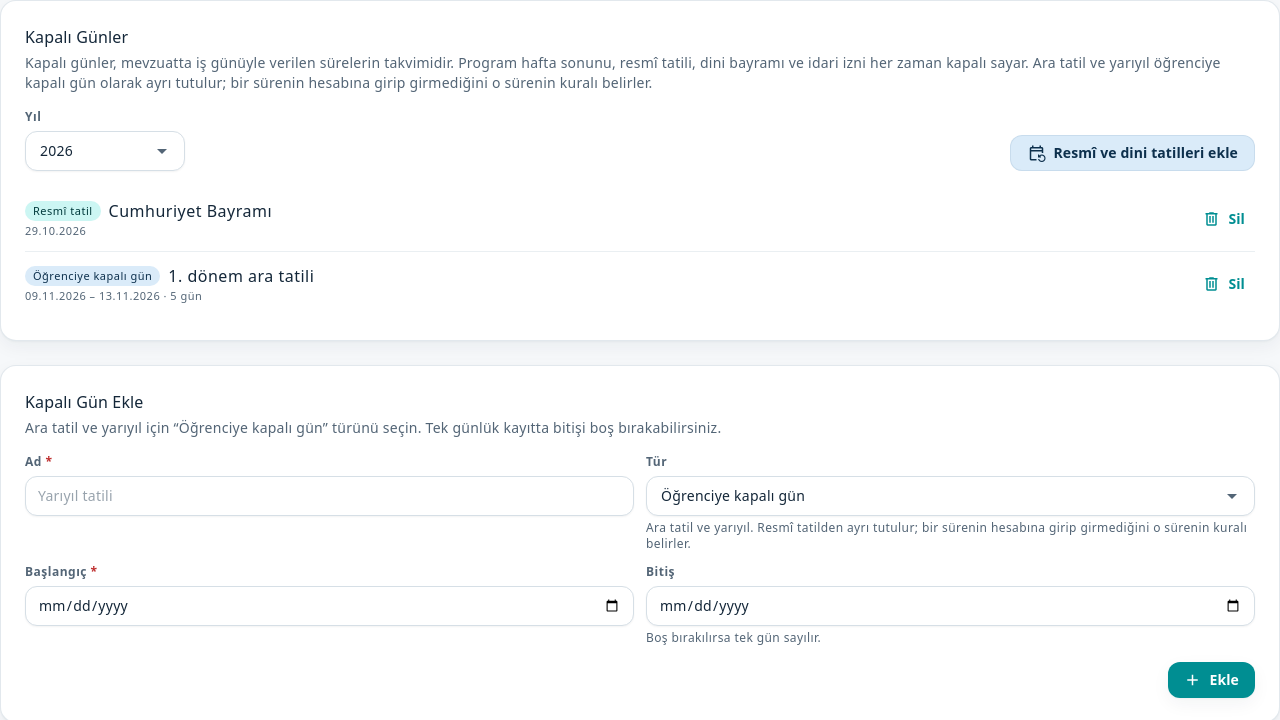
Test: KapaliGunlerPaneli — silme › silme onay diyaloğundan geçer; başlık soru, gövde sonuçtur
Expected: the text "1. dönem ara tatili" is shown, [168,265,314,287]
What coordinates should you click on to do the following:
click the button with aria-label "1. dönem ara tatili kaydını sil"
I would click on:
 (1224, 284)
Its box is [1192,266,1255,302].
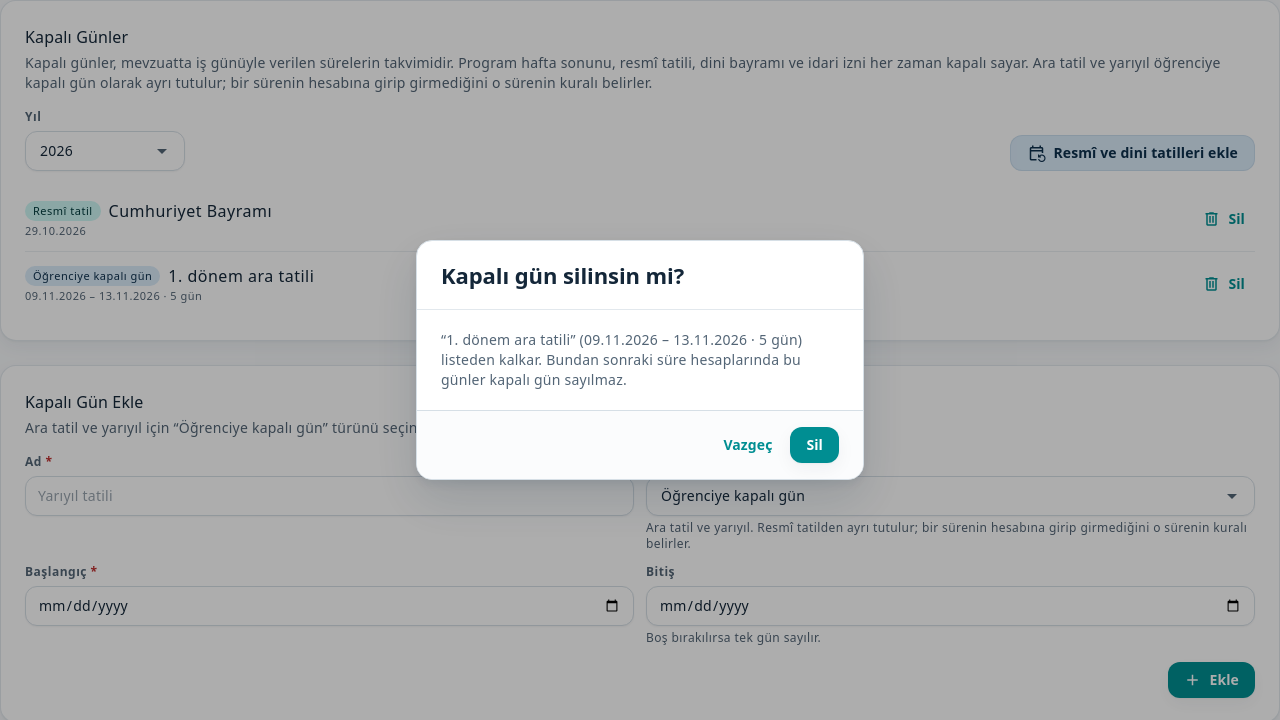
Expected: the dialog "Kapalı gün silinsin mi?" shows "09.11.2026 – 13.11.2026", [441,330,802,389]
Expected: the dialog "Kapalı gün silinsin mi?" shows "süre hesaplarında bu günler kapalı gün sayılmaz", [441,330,802,389]
What coordinates should you click on to do the following:
click the button "Sil"
I would click on:
 (815, 445)
Its box is [790,427,839,463].
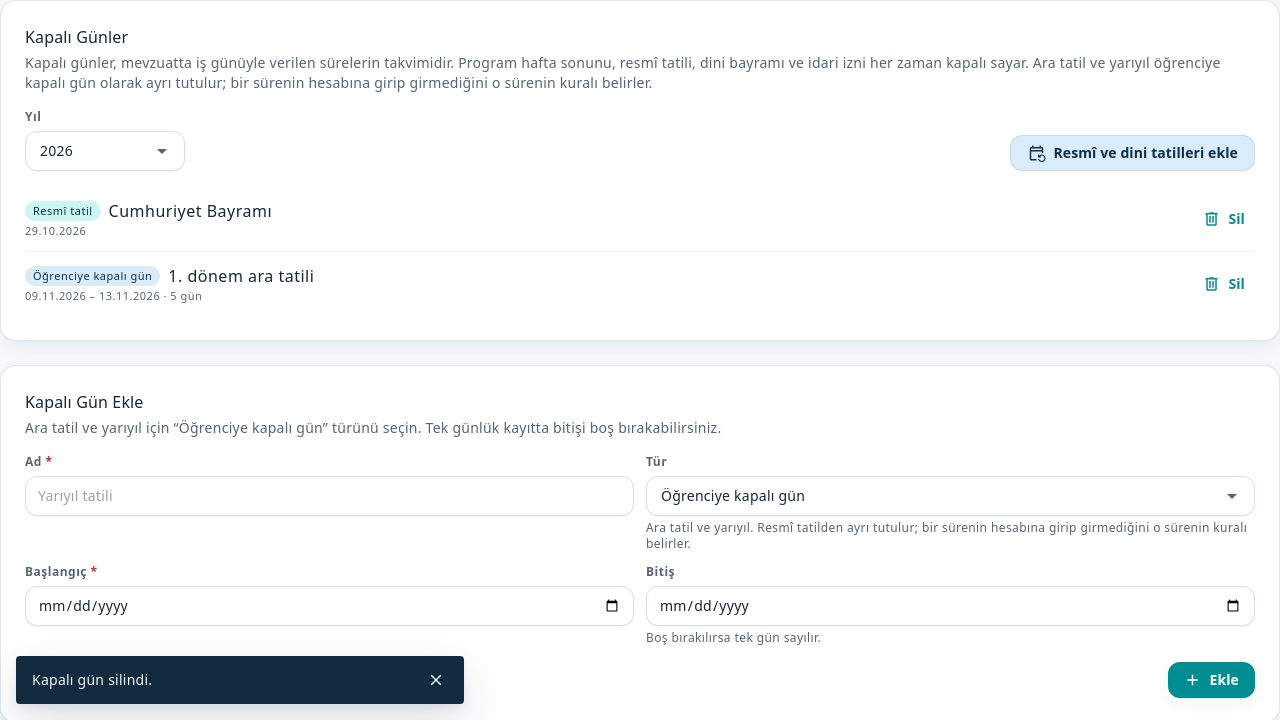
Expected: the text "Kapalı gün silindi." is shown, [32,670,152,689]
